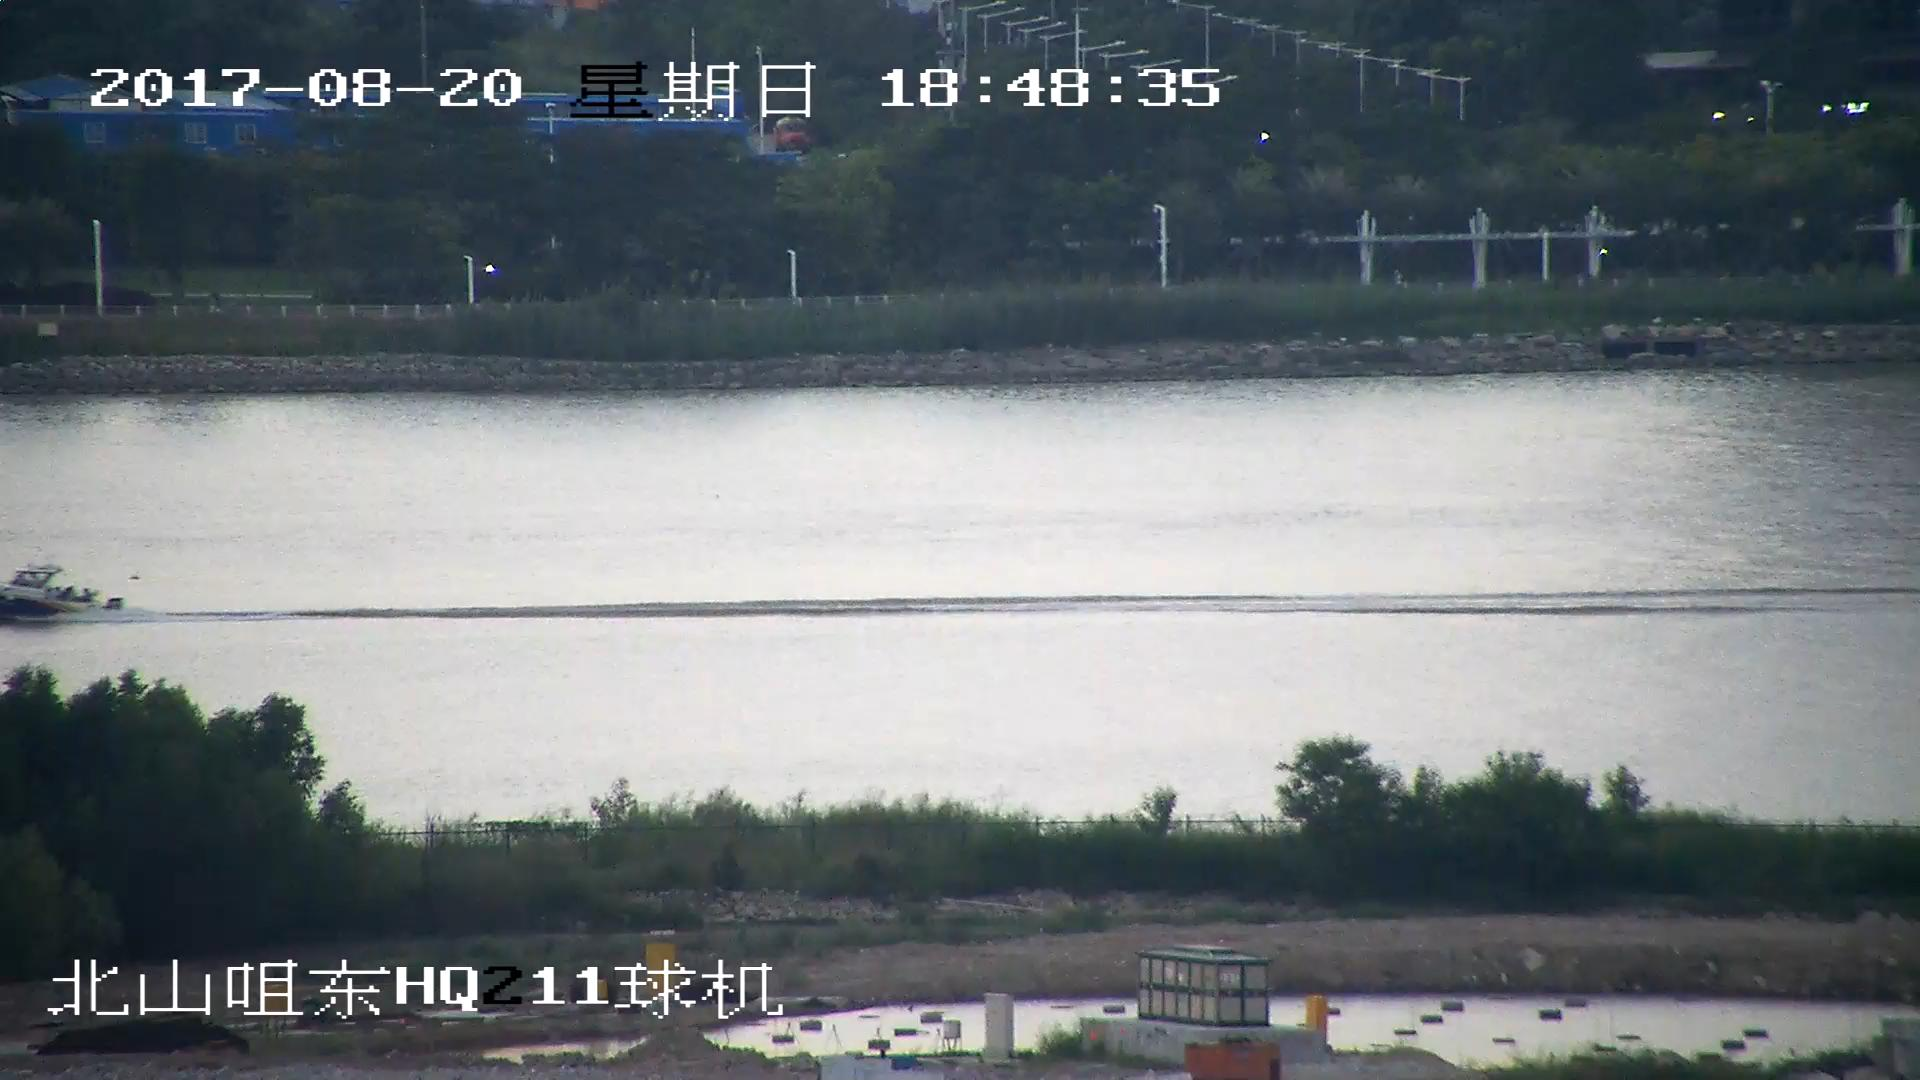passenger ship: (1, 563, 125, 621)
